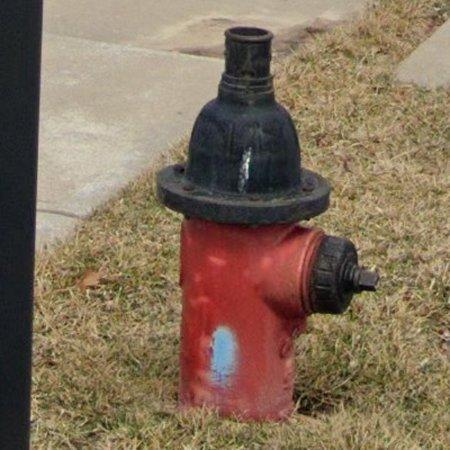a fire hydrant: (157, 27, 379, 420)
